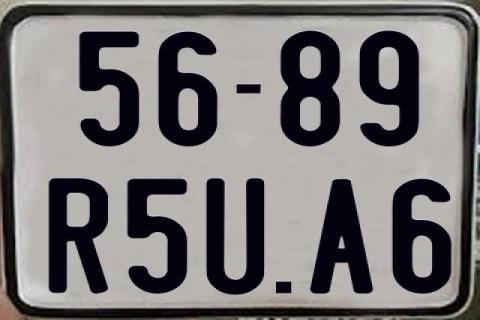0: (356, 28, 422, 148), (277, 29, 342, 147), (155, 29, 221, 145), (124, 177, 188, 293), (391, 176, 452, 296), (77, 31, 138, 149)
A: (310, 177, 380, 296)
R: (49, 177, 114, 297)
U: (204, 178, 268, 300)
